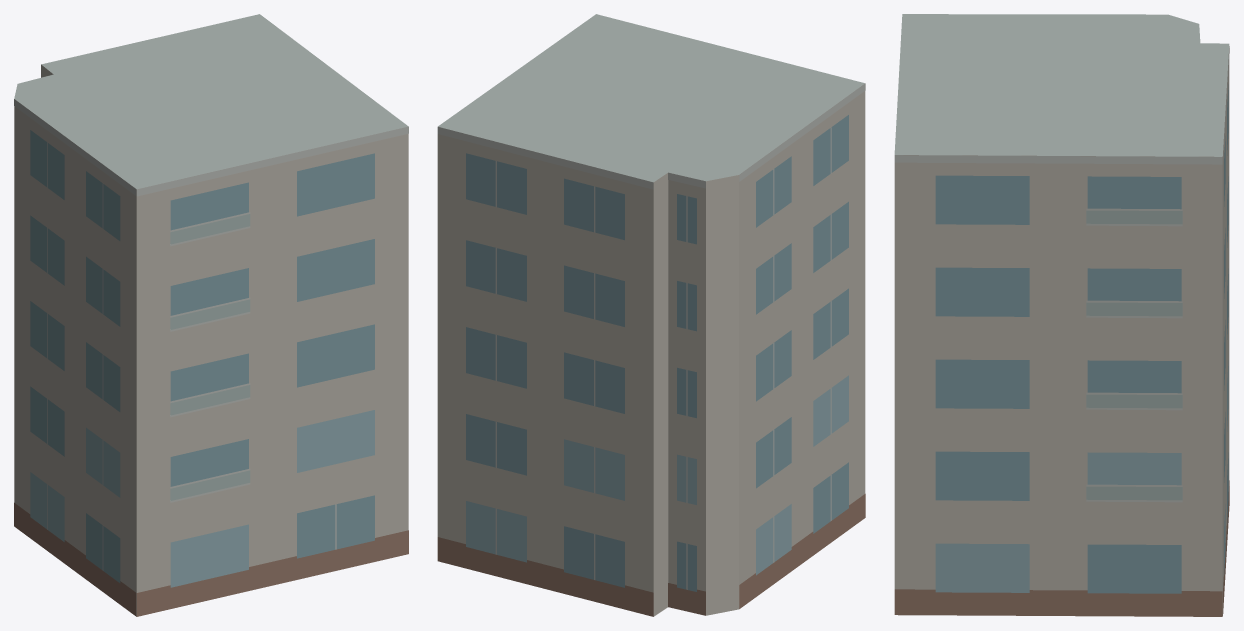
The model's file is survey-upis-32836135.glb.
3 views of the same model, side by side, from view 1: azimuth 30°, elevation 25°; view 2: azimuth 150°, elevation 25°; view 3: azimuth 270°, elevation 25° (orthographic). The views are drawn at different scales.
Visible parts, largest first — view 1: survey-upis-32836135.tmp; view 2: survey-upis-32836135.tmp; view 3: survey-upis-32836135.tmp.
Part boxes in pixels (x1,y1,x2,y2): survey-upis-32836135.tmp: (14, 14, 408, 616); survey-upis-32836135.tmp: (437, 14, 865, 616); survey-upis-32836135.tmp: (894, 14, 1229, 616).
Bounding box in the file's own units: 9.72 × 14.55 × 9.61.
